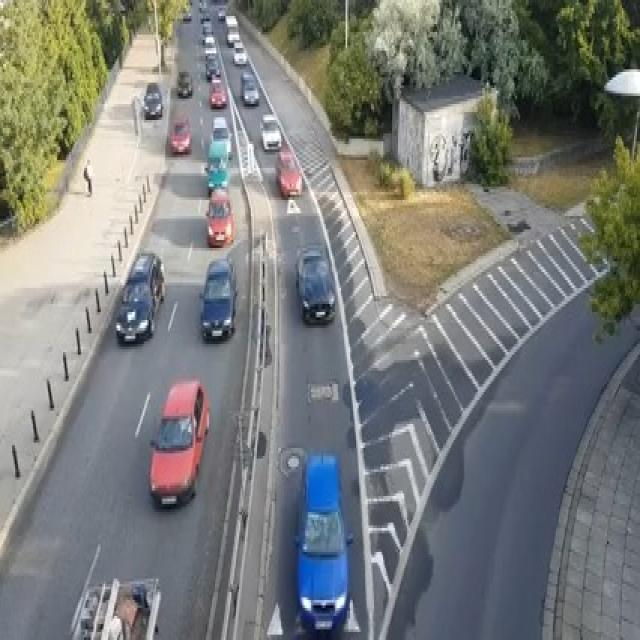car: (293, 451, 353, 632), (149, 378, 209, 506), (69, 576, 161, 637), (198, 256, 238, 341), (294, 245, 335, 323), (114, 280, 155, 344), (128, 251, 165, 304), (204, 187, 233, 245), (275, 150, 302, 198), (210, 115, 232, 157), (258, 112, 281, 149), (141, 80, 162, 117), (170, 117, 191, 152), (206, 138, 228, 170), (206, 165, 228, 195), (240, 72, 258, 104), (209, 77, 227, 107), (178, 69, 192, 96), (233, 40, 246, 64), (206, 59, 219, 80), (225, 27, 239, 45), (204, 40, 217, 59), (224, 13, 237, 27), (201, 18, 212, 34), (203, 32, 215, 45), (217, 5, 226, 19), (182, 8, 191, 21), (198, 0, 208, 11), (200, 11, 210, 21)
